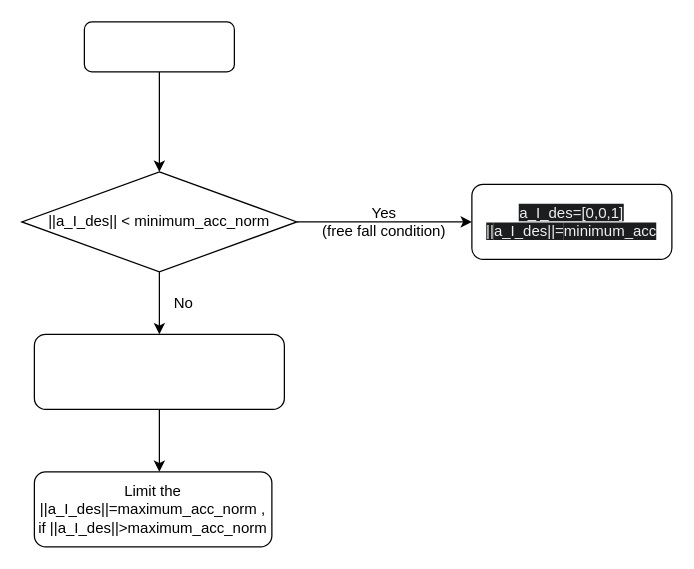
The diagram is 694 pixels wide and 569 high, and some of its shapes have lost their labels. The shapes that lost their labels are listed below. From the top down, each one's centre as x and y in pixels, then its label:
[158,46]: a_I_des
[158,371]: Find R_I_B_des and limit the tilt to the maximum_tilt_angle if enabled
